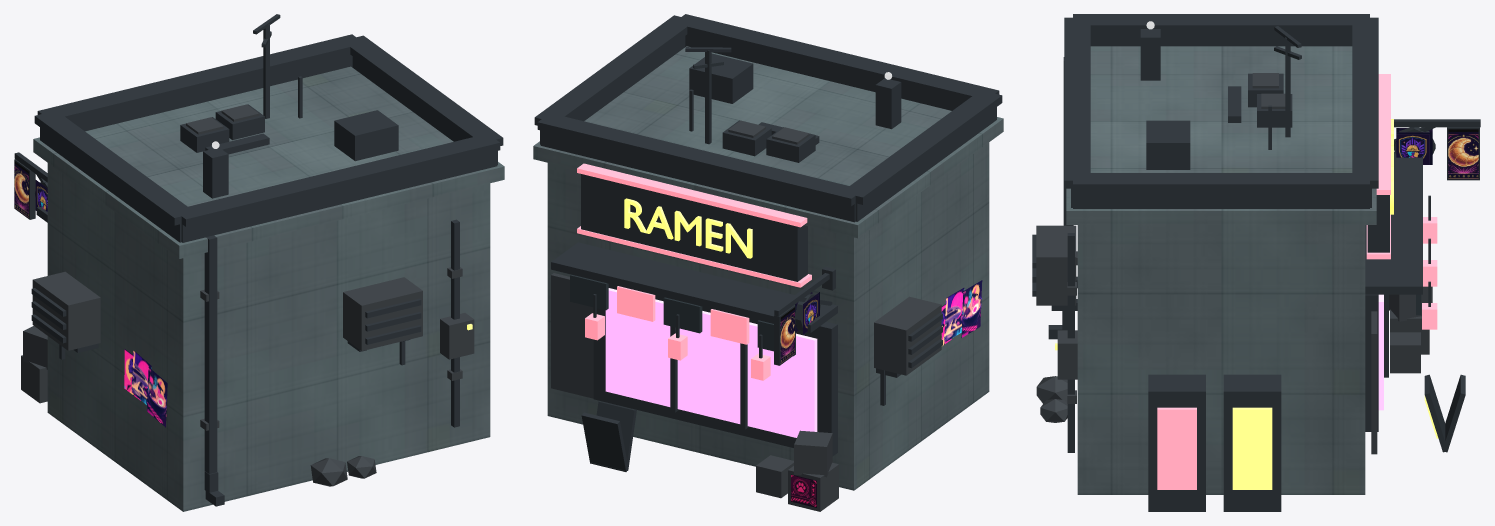
The model's file is synthwave-shop.glb.
3 renders of one model, left to right at view 1: azimuth 30°, elevation 25°; view 2: azimuth 150°, elevation 25°; view 3: azimuth 270°, elevation 25°, orthographic. The views are drawn at different scales.
Visible parts, largest first — view 1: Shop_Body2, Shop_Frame, Shop_Door, RK_Duct, Shop_ShopPosters, RK_Vent, RK_AcBox0-12_10, RK_AcBox1-12_10, Shop_BrkBrandRAMEN, RK_AcDuct-12_10, RK_AntMast8_15; view 2: Shop_Body2, Shop_Frame, ShopPane, Shop_Door, Shop_NeonA, Shop_PaneOff, ShopSignText, Shop_PaneADim, RK_Duct, Shop_ShopPosters, Shop_DimA, RK_Vent (+5 smaller); view 3: Shop_Body2, Shop_Frame, Shop_Door, VendGlow1, VendGlow0, RK_Duct, Shop_NeonA, Shop_BrkBrandRAMEN, Shop_DimA, RK_Vent, Shop_BrkEmbRAMEN, ShopPane (+3 smaller).
Boxes of the visible parts, box(x1,y1,x2,y2) form: Shop_Body2: box(33, 66, 504, 511); Shop_Frame: box(14, 34, 503, 506); Shop_Door: box(21, 267, 474, 486); RK_Duct: box(334, 110, 398, 161); Shop_ShopPosters: box(124, 349, 167, 427); RK_Vent: box(203, 147, 228, 198); RK_AcBox0-12_10: box(180, 117, 229, 152); RK_AcBox1-12_10: box(215, 104, 264, 140); Shop_BrkBrandRAMEN: box(14, 161, 28, 218); RK_AcDuct-12_10: box(205, 133, 269, 154); RK_AntMast8_15: box(263, 24, 269, 118); Shop_Body2: box(533, 46, 1003, 490); Shop_Frame: box(534, 14, 1002, 471); ShopPane: box(605, 288, 817, 437); Shop_Door: box(551, 273, 941, 511); Shop_NeonA: box(577, 163, 811, 287); Shop_PaneOff: box(570, 274, 795, 356); ShopSignText: box(624, 198, 752, 258); Shop_PaneADim: box(617, 286, 749, 344); RK_Duct: box(689, 53, 753, 103); Shop_ShopPosters: box(941, 280, 982, 345); Shop_DimA: box(585, 313, 770, 380); RK_Vent: box(875, 78, 901, 129); Shop_Body2: box(1066, 46, 1376, 494); Shop_Frame: box(1032, 14, 1480, 511); Shop_Door: box(1036, 225, 1432, 454); VendGlow1: box(1232, 407, 1272, 489); VendGlow0: box(1157, 407, 1196, 489); RK_Duct: box(1146, 120, 1190, 169); Shop_NeonA: box(1366, 74, 1390, 259); Shop_BrkBrandRAMEN: box(1448, 129, 1478, 179); Shop_DimA: box(1422, 217, 1437, 329); RK_Vent: box(1140, 29, 1160, 80); Shop_BrkEmbRAMEN: box(1396, 128, 1432, 164); ShopPane: box(1378, 294, 1383, 410).
Size of the model in its own units: 1.05 by 0.984 by 1.01.
Materials: 17 (5 with a texture image).
